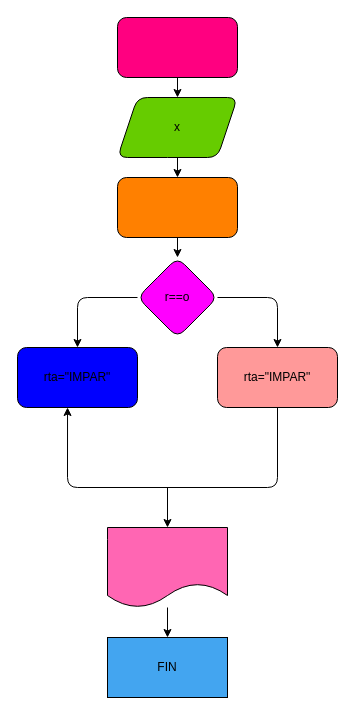
The diagram is 355 pixels wide and 715 high, and some of its shapes have lost their labels. The shapes that lost their labels are listed below. From the top down, each one's centre as x and y in pixels, then its label:
At (177,47): "inicio".
At (177,207): "r=x%2".
At (167,567): "rta".
